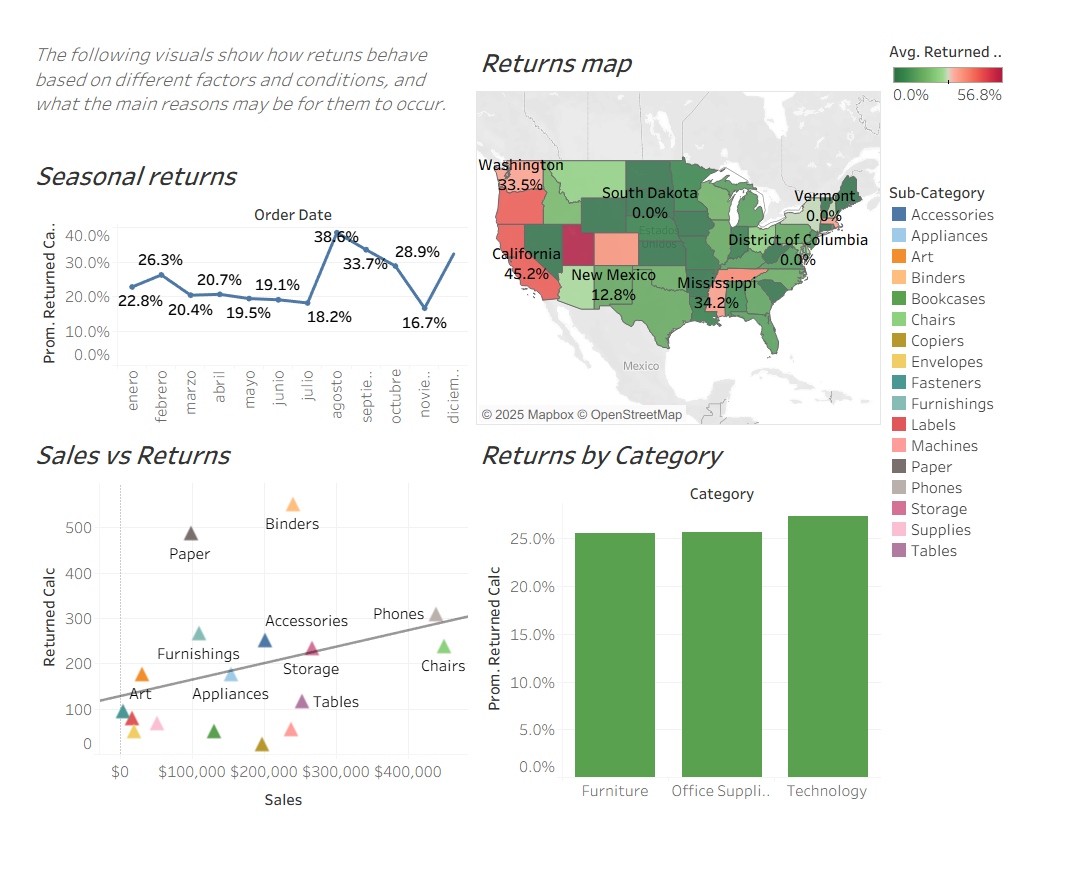

The page's visual inventory and layout, read from the dashboard file:
{"tool":"tableau","page":{"name":"Returns root causes","canvas":[1000,800],"ordinal":2},"visuals":[{"type":"text","box":[8,8,445,83]},{"type":"worksheet","title":"Returns map","mark":"Automatic","box":[453,8,413,392]},{"type":"legend","title":"Returns map","param":"[federated.17zflwy08zfmfp17b5a221czl0fl].[avg:Calculation_1611162793528987648:qk","box":[866,8,126,141]},{"type":"worksheet","title":"Seasonal returns","mark":"Automatic","rows":["Calculation_1611162793528987648"],"cols":["Order Date"],"box":[8,121,445,279]},{"type":"legend","title":"Sales vs Returns","param":"[federated.17zflwy08zfmfp17b5a221czl0fl].[none:Sub-Category:nk]","box":[866,149,126,643]},{"type":"worksheet","title":"Sales vs Returns","mark":"Automatic","rows":["Calculation_1611162793528987648"],"cols":["Sales"],"box":[8,400,445,392]},{"type":"worksheet","title":"Returns by Category","mark":"Automatic","rows":["Calculation_1611162793528987648"],"cols":["Category"],"box":[453,400,413,392]}]}

Visuals, with their boxes in screenshot pixels (x1, y1, x2, y2), scaled from the page's 1000x800 canvas onto the 1070x875 screenshot:
text: 9/9/485/100
"Returns map" worksheet: 485/9/927/438
"Returns map" legend: 927/9/1061/163
"Seasonal returns" worksheet: 9/132/485/438
"Sales vs Returns" legend: 927/163/1061/866
"Sales vs Returns" worksheet: 9/438/485/866
"Returns by Category" worksheet: 485/438/927/866
